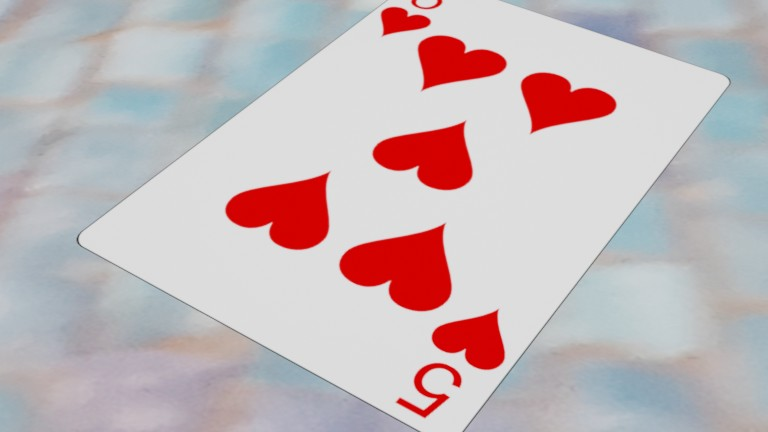5_of_hearts: (149, 116, 215, 173), (143, 0, 189, 19)
